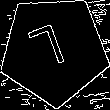L_S: (32, 21, 77, 80)
